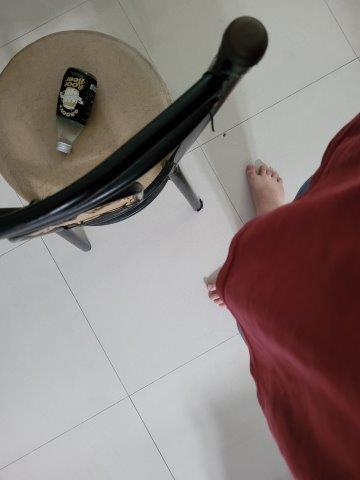botolkaca: (55, 66, 97, 155)
